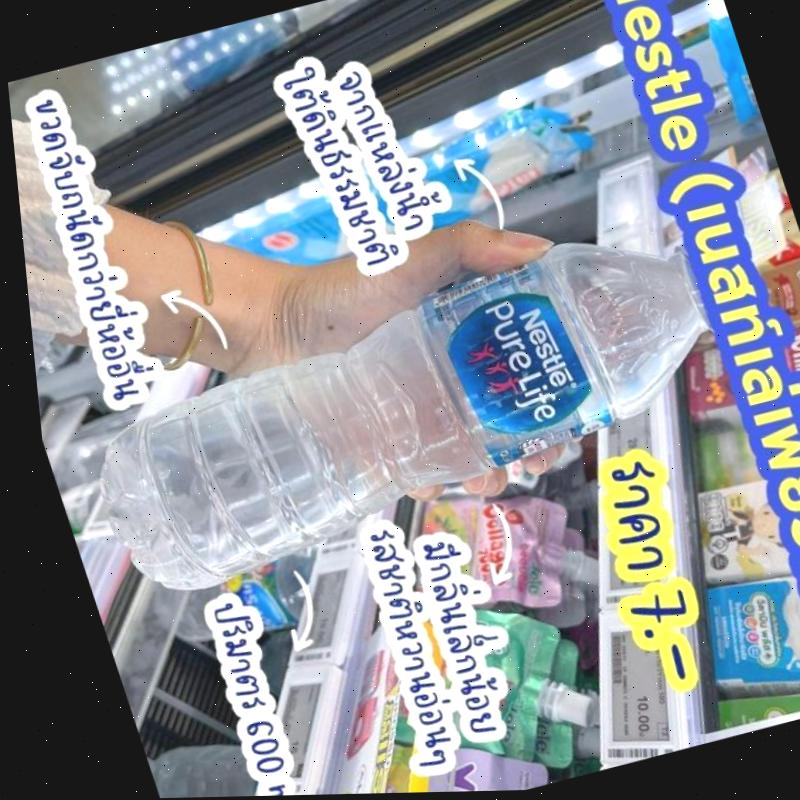botella: (40, 215, 757, 604)
